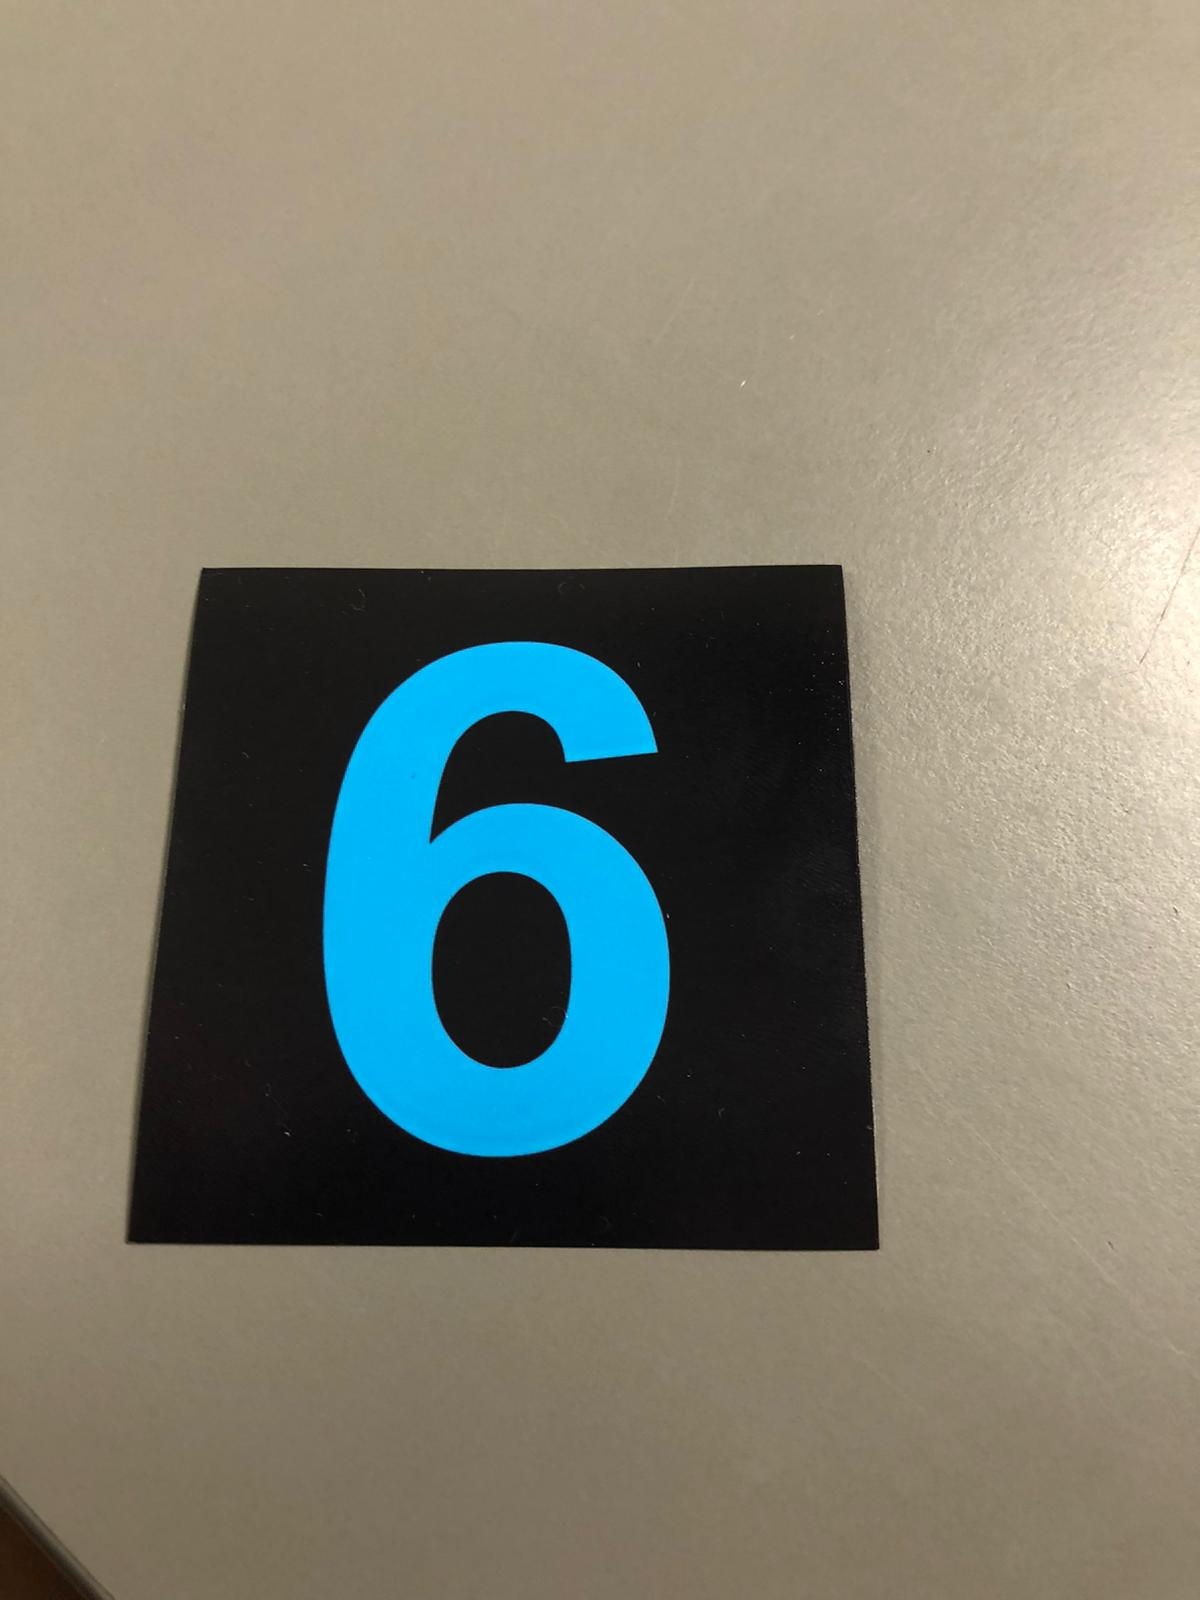Number 6: (187, 593, 814, 1222)
